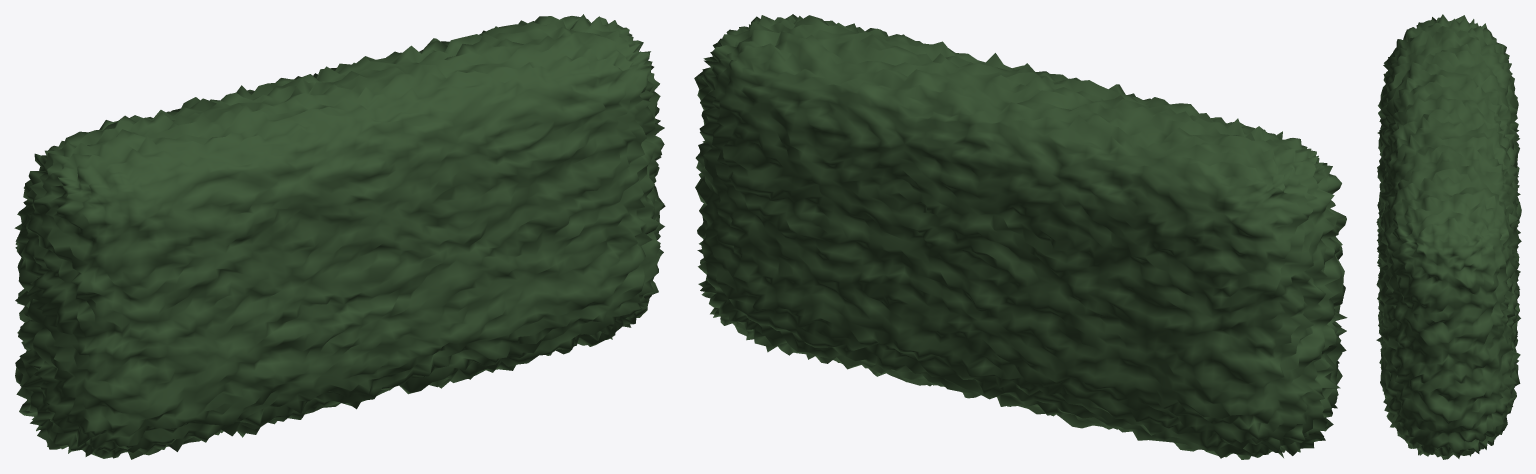
Rendered from Hedge.fbx.
The picture shows the model from 3 angles, left to right: view 1: azimuth 30°, elevation 25°; view 2: azimuth 150°, elevation 25°; view 3: azimuth 270°, elevation 25°; orthographic projection. The views are drawn at different scales.
Parts seen in each view (by area): view 1: Hedge1; view 2: Hedge1; view 3: Hedge1.
Boxes of the visible parts, x1,y1,x2,y2 form: Hedge1: (14, 14, 665, 459); Hedge1: (694, 14, 1347, 459); Hedge1: (1376, 14, 1521, 459).
Size of the model in its own units: 479 by 231 by 121.
